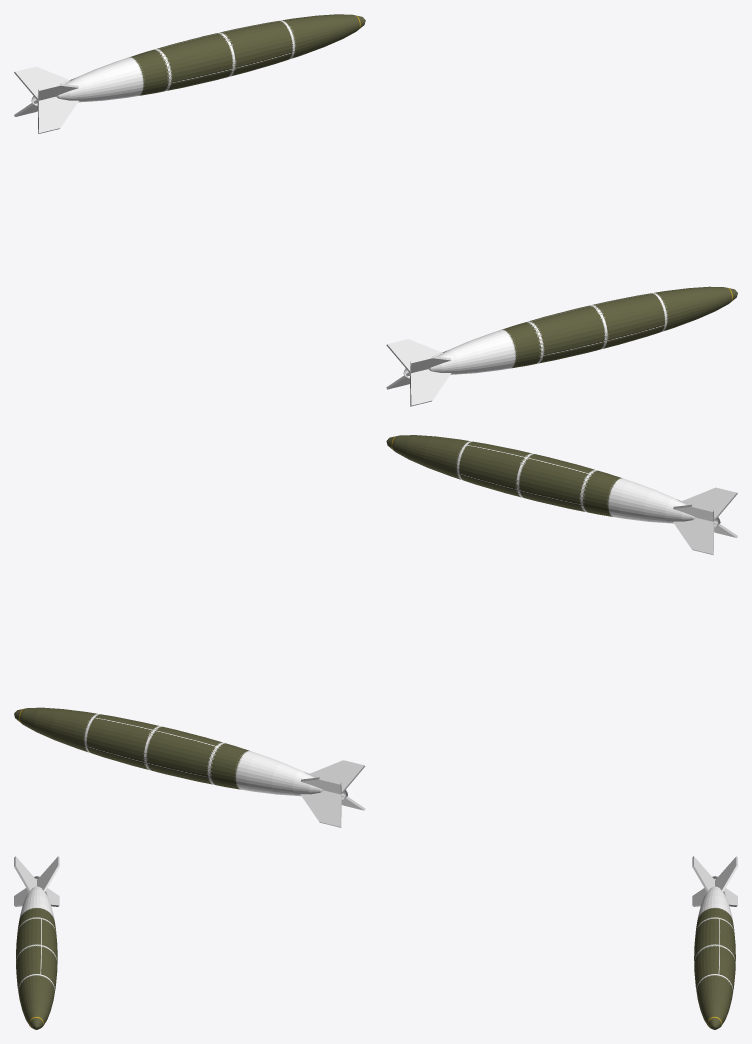
File: f16cgbu3114.glb
3 views of the same model, one above another, from view 1: azimuth 30°, elevation 25°; view 2: azimuth 150°, elevation 25°; view 3: azimuth 270°, elevation 25° (orthographic). The views are drawn at different scales.
Visible parts, largest first — view 1: 立方体.022, 立方体.016; view 2: 立方体.016, 立方体.022; view 3: 立方体.022, 立方体.016.
Part boxes in pixels (x1,y1,x2,y2): 立方体.022: (386,286,737,406); 立方体.016: (14,14,365,133); 立方体.016: (14,707,365,827); 立方体.022: (386,435,737,555); 立方体.022: (14,856,59,1029); 立方体.016: (692,856,737,1029).
Bounding box in the file's own units: 3.8 × 0.4884 × 7.72.
Materials: 1 (1 with a texture image).
